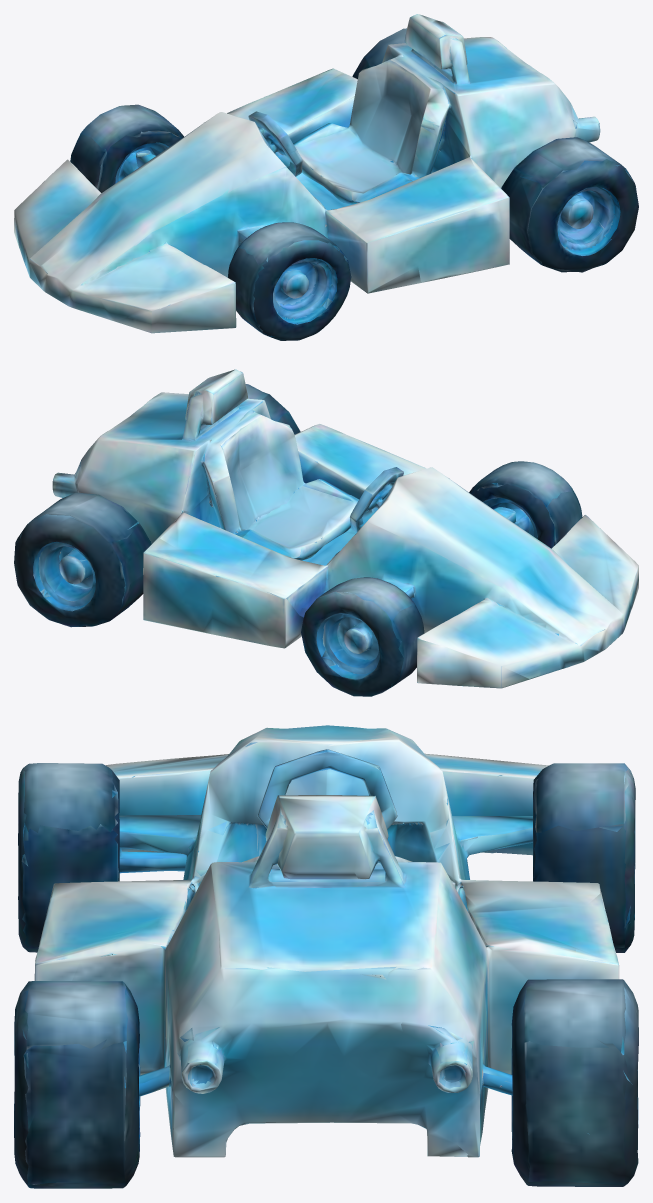
The model's file is ice-racer.glb.
3 views of the same model, one above another, from view 1: azimuth 30°, elevation 25°; view 2: azimuth 150°, elevation 25°; view 3: azimuth 270°, elevation 25° (orthographic). The views are drawn at different scales.
Parts seen in each view (by area): view 1: Mesh_0; view 2: Mesh_0; view 3: Mesh_0.
Boxes of the visible parts, bbox=[...] form: Mesh_0: bbox=[14, 14, 638, 340]; Mesh_0: bbox=[14, 369, 638, 696]; Mesh_0: bbox=[14, 725, 638, 1188].
Bounding box in the file's own units: 1.9 × 0.6993 × 1.21.
Materials: 1 (1 with a texture image).
